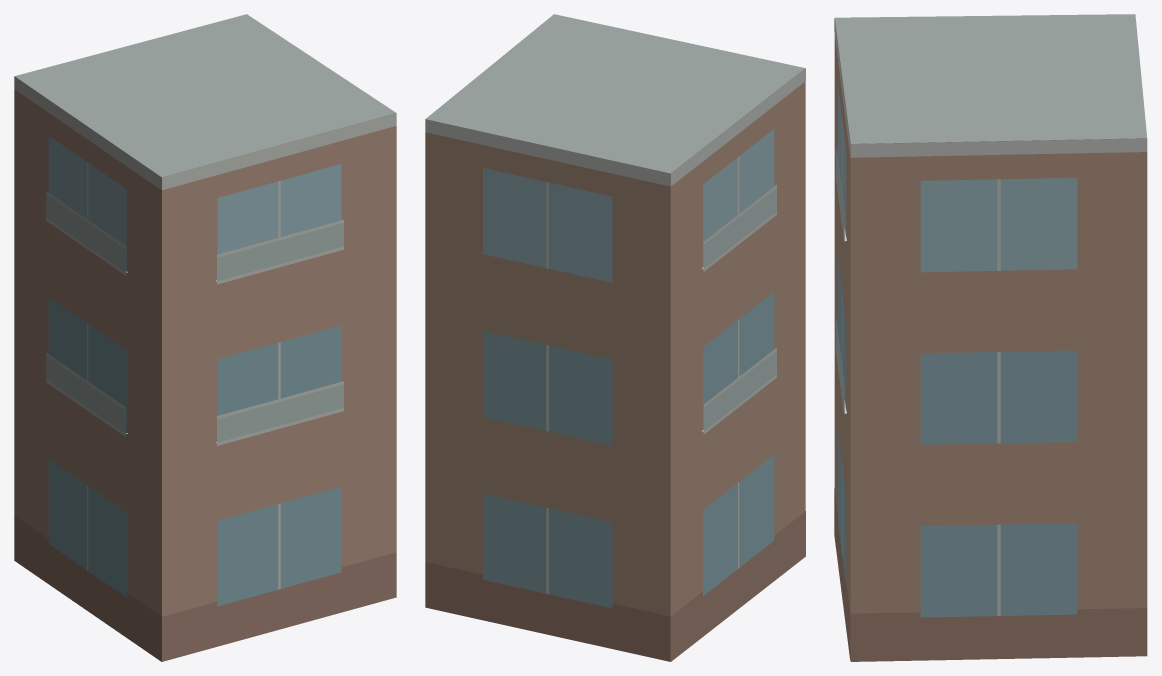
File: survey-upis-33031920.glb
3 renders of one model, left to right at view 1: azimuth 30°, elevation 25°; view 2: azimuth 150°, elevation 25°; view 3: azimuth 270°, elevation 25°, orthographic. The views are drawn at different scales.
Visible parts, largest first — view 1: survey-upis-33031920.tmp; view 2: survey-upis-33031920.tmp; view 3: survey-upis-33031920.tmp.
Boxes of the visible parts, x1=… form: survey-upis-33031920.tmp: x1=14, y1=14, x2=396, y2=661; survey-upis-33031920.tmp: x1=425, y1=14, x2=805, y2=661; survey-upis-33031920.tmp: x1=834, y1=14, x2=1147, y2=661.
Bounding box in the file's own units: 4.94 × 9.15 × 5.02.
